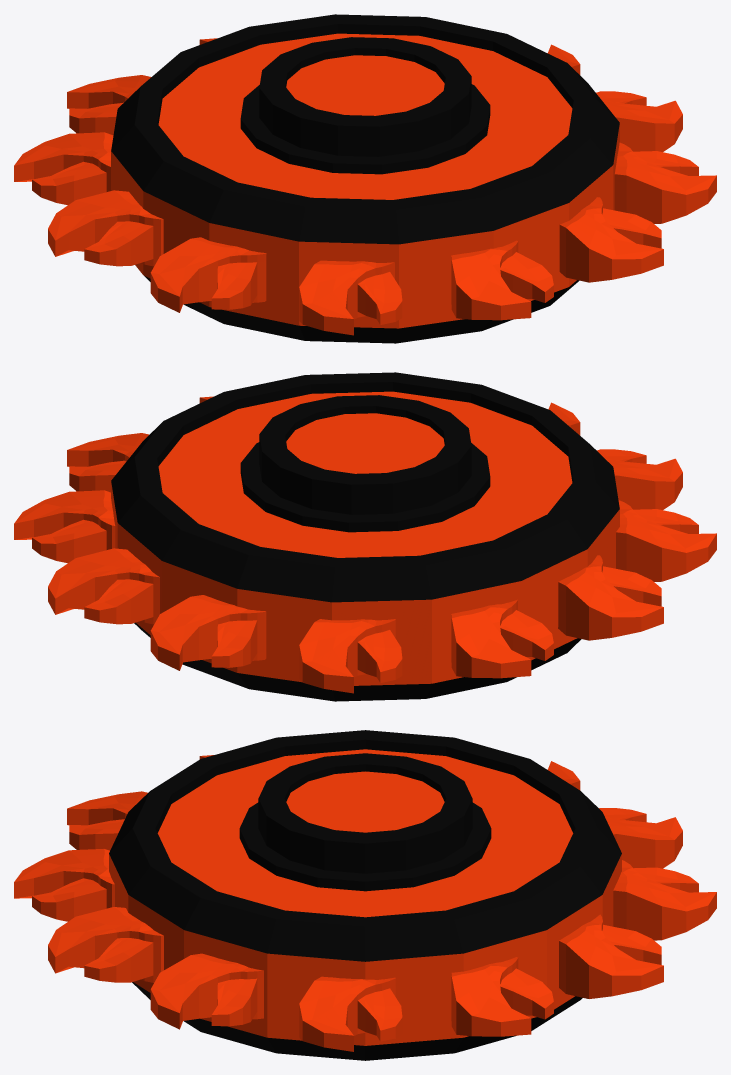
File: Siwy Cwab Saw.fbx
3 renders of one model, top to bottom at view 1: azimuth 30°, elevation 25°; view 2: azimuth 150°, elevation 25°; view 3: azimuth 270°, elevation 25°, orthographic.
Visible parts, largest first — view 1: Cwab Saw, Plane.004, Plane.003, Plane.007, Plane.006, Plane.005, Plane.008, Plane.002, Plane.009, Plane.001; view 2: Cwab Saw, Plane, Plane.011, Plane.003, Plane.002, Plane.001, Plane.004, Plane.010, Plane.005, Plane.009; view 3: Cwab Saw, Plane.007, Plane.008, Plane.011, Plane.010, Plane.009, Plane, Plane.006, Plane.001, Plane.005.
Part boxes in pixels (box(x1,y1,x2,y2)): Cwab Saw: box(111, 14, 619, 343); Plane.004: box(150, 237, 266, 312); Plane.003: box(48, 190, 163, 266); Plane.007: box(559, 197, 663, 282); Plane.006: box(451, 240, 553, 320); Plane.005: box(299, 260, 402, 335); Plane.008: box(614, 142, 716, 223); Plane.002: box(14, 132, 113, 205); Plane.009: box(596, 91, 682, 151); Plane.001: box(67, 75, 151, 135); Cwab Saw: box(111, 372, 619, 701); Plane: box(150, 595, 266, 670); Plane.011: box(48, 548, 159, 624); Plane.003: box(558, 555, 663, 640); Plane.002: box(451, 599, 553, 678); Plane.001: box(299, 619, 402, 693); Plane.004: box(616, 500, 716, 581); Plane.010: box(14, 490, 115, 563); Plane.005: box(597, 449, 682, 509); Plane.009: box(67, 433, 148, 492); Cwab Saw: box(109, 730, 621, 1060); Plane.007: box(48, 907, 163, 982); Plane.008: box(150, 953, 263, 1029); Plane.011: box(559, 914, 663, 998); Plane.010: box(451, 957, 553, 1036); Plane.009: box(299, 976, 402, 1051); Plane: box(613, 860, 716, 940); Plane.006: box(14, 849, 114, 921); Plane.001: box(599, 808, 682, 868); Plane.005: box(67, 791, 147, 850).
Bounding box in the file's own units: 657 × 200 × 657.
